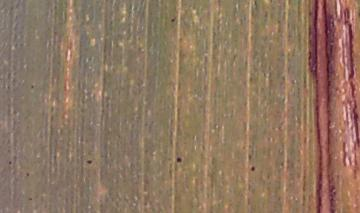tarspot: (169, 15, 177, 24), (175, 156, 183, 164), (249, 165, 256, 172), (25, 196, 33, 202), (24, 172, 31, 178), (6, 160, 13, 166), (29, 83, 34, 90), (86, 159, 92, 164)
